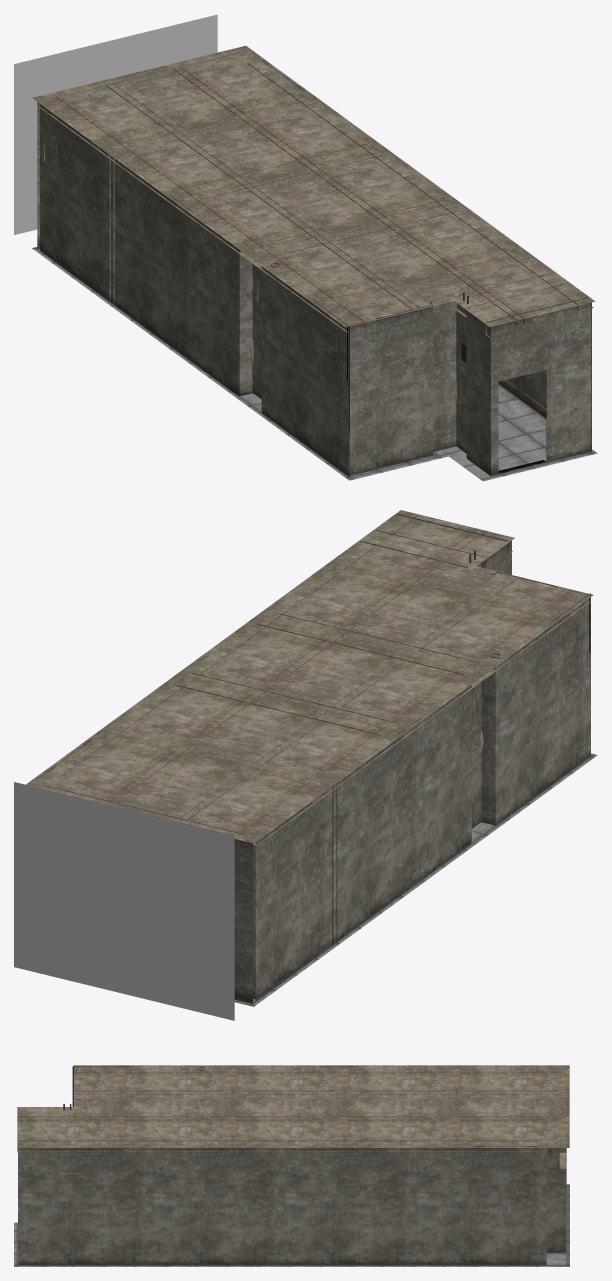
File: st4_207_0_terrain_00ms.fbx
3 views of the same model, one above another, from view 1: azimuth 30°, elevation 25°; view 2: azimuth 150°, elevation 25°; view 3: azimuth 270°, elevation 25° (orthographic). The views are drawn at different scales.
Parts seen in each view (by area): view 1: LOD_1_Group_0_Sub_2__st2_police1fLeftWall02, LOD_1_Group_0_Sub_4__st2_police1fLeftCeiling011, LOD_1_Group_0_Sub_7__Wall_Mat, LOD_1_Group_0_Sub_1__st2_police1fLeftFloor04; view 2: LOD_1_Group_0_Sub_4__st2_police1fLeftCeiling011, LOD_1_Group_0_Sub_2__st2_police1fLeftWall02, LOD_1_Group_0_Sub_7__Wall_Mat, LOD_1_Group_0_Sub_1__st2_police1fLeftFloor04; view 3: LOD_1_Group_0_Sub_2__st2_police1fLeftWall02, LOD_1_Group_0_Sub_4__st2_police1fLeftCeiling011, LOD_1_Group_0_Sub_1__st2_police1fLeftFloor04.
Boxes of the visible parts, box(x1,y1,x2,y2) form: LOD_1_Group_0_Sub_2__st2_police1fLeftWall02: box(37, 102, 591, 477); LOD_1_Group_0_Sub_4__st2_police1fLeftCeiling011: box(32, 45, 595, 332); LOD_1_Group_0_Sub_7__Wall_Mat: box(14, 14, 217, 234); LOD_1_Group_0_Sub_1__st2_police1fLeftFloor04: box(32, 247, 597, 481); LOD_1_Group_0_Sub_4__st2_police1fLeftCeiling011: box(26, 510, 593, 850); LOD_1_Group_0_Sub_2__st2_police1fLeftWall02: box(234, 514, 590, 1003); LOD_1_Group_0_Sub_7__Wall_Mat: box(14, 782, 234, 1020); LOD_1_Group_0_Sub_1__st2_police1fLeftFloor04: box(234, 753, 597, 1006); LOD_1_Group_0_Sub_2__st2_police1fLeftWall02: box(18, 1148, 566, 1265); LOD_1_Group_0_Sub_4__st2_police1fLeftCeiling011: box(17, 1065, 569, 1173); LOD_1_Group_0_Sub_1__st2_police1fLeftFloor04: box(14, 1184, 569, 1266).
Size of the model in its own units: 5.22 by 4.02 by 15.58.
